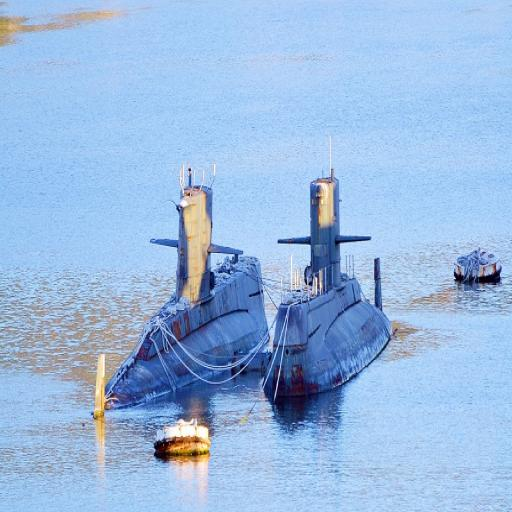submarine: (95, 183, 274, 422), (264, 177, 391, 399)
